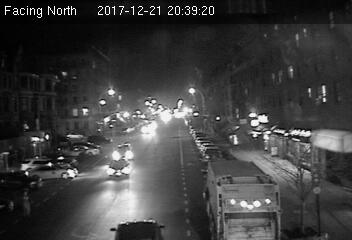car: (107, 158, 131, 177), (113, 144, 135, 159)
truck: (202, 155, 281, 240)
